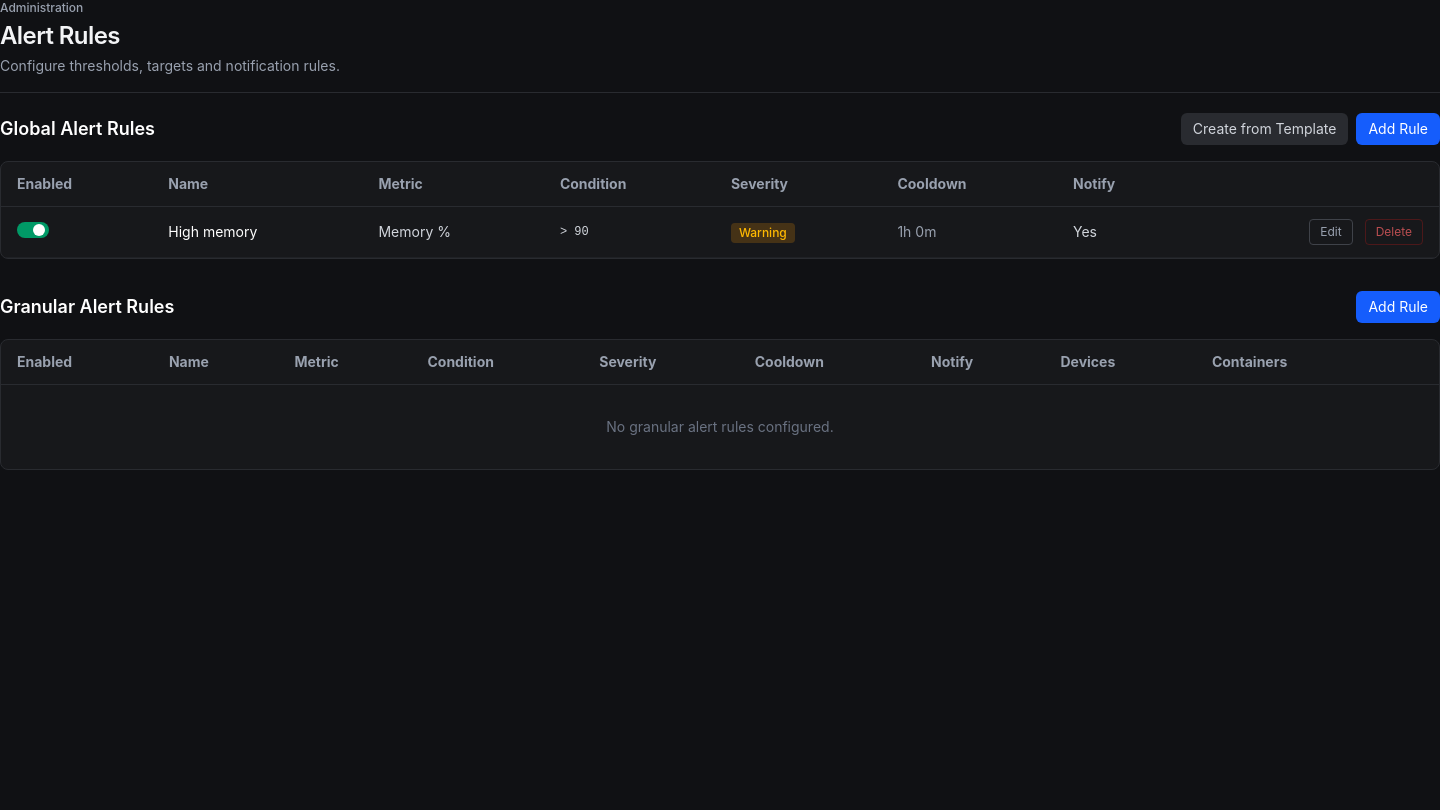
Test: [UIF AC-069] delete rule (global table) uses danger dialog › opens a danger ConfirmDialog naming the rule
What coordinates should you click on to do the following:
click the button "Delete"
I would click on:
 (1394, 232)
Its box is left=1365, top=219, right=1423, bottom=245.
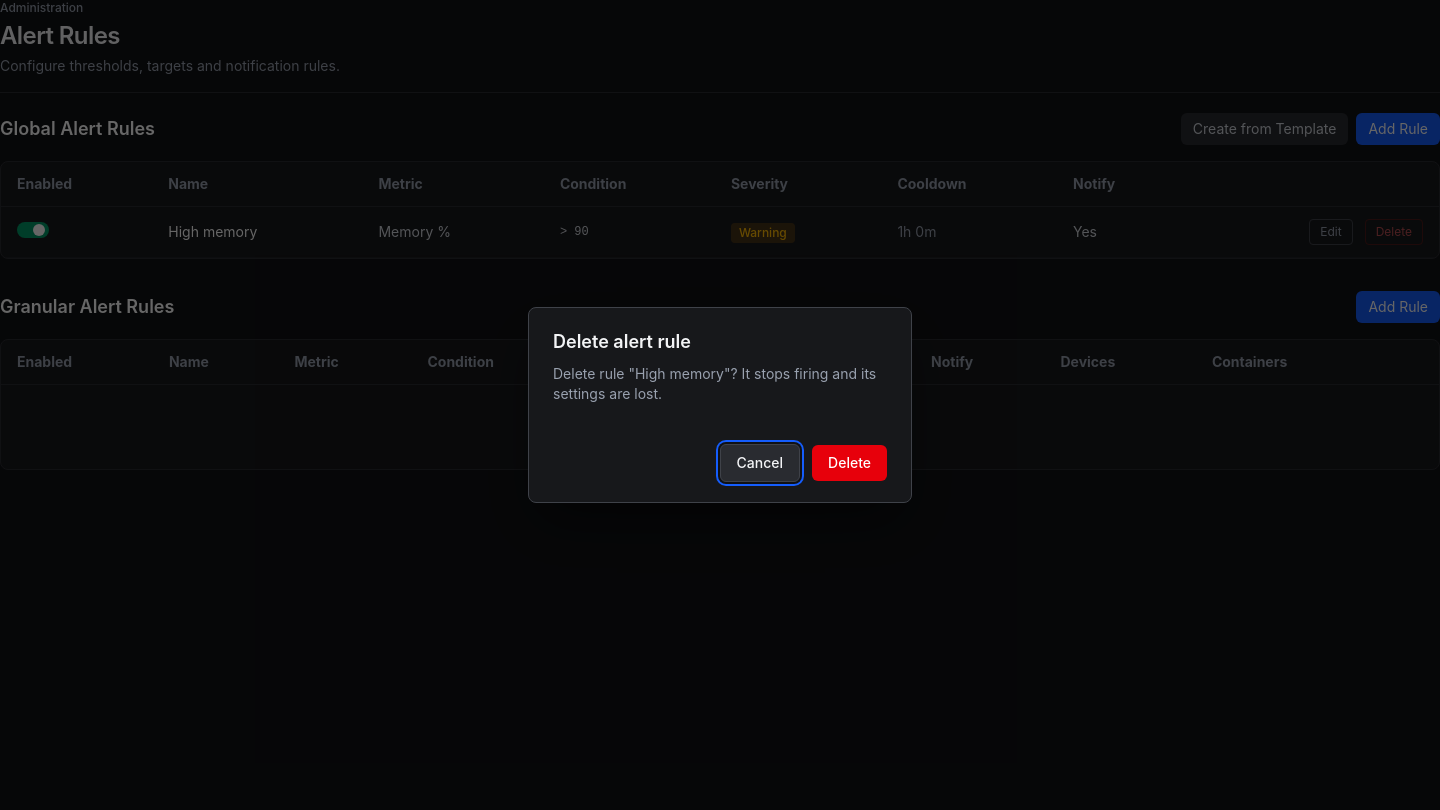
Expected: the dialog "Delete alert rule" shows "\"High memory\"", left=553, top=365, right=876, bottom=402
